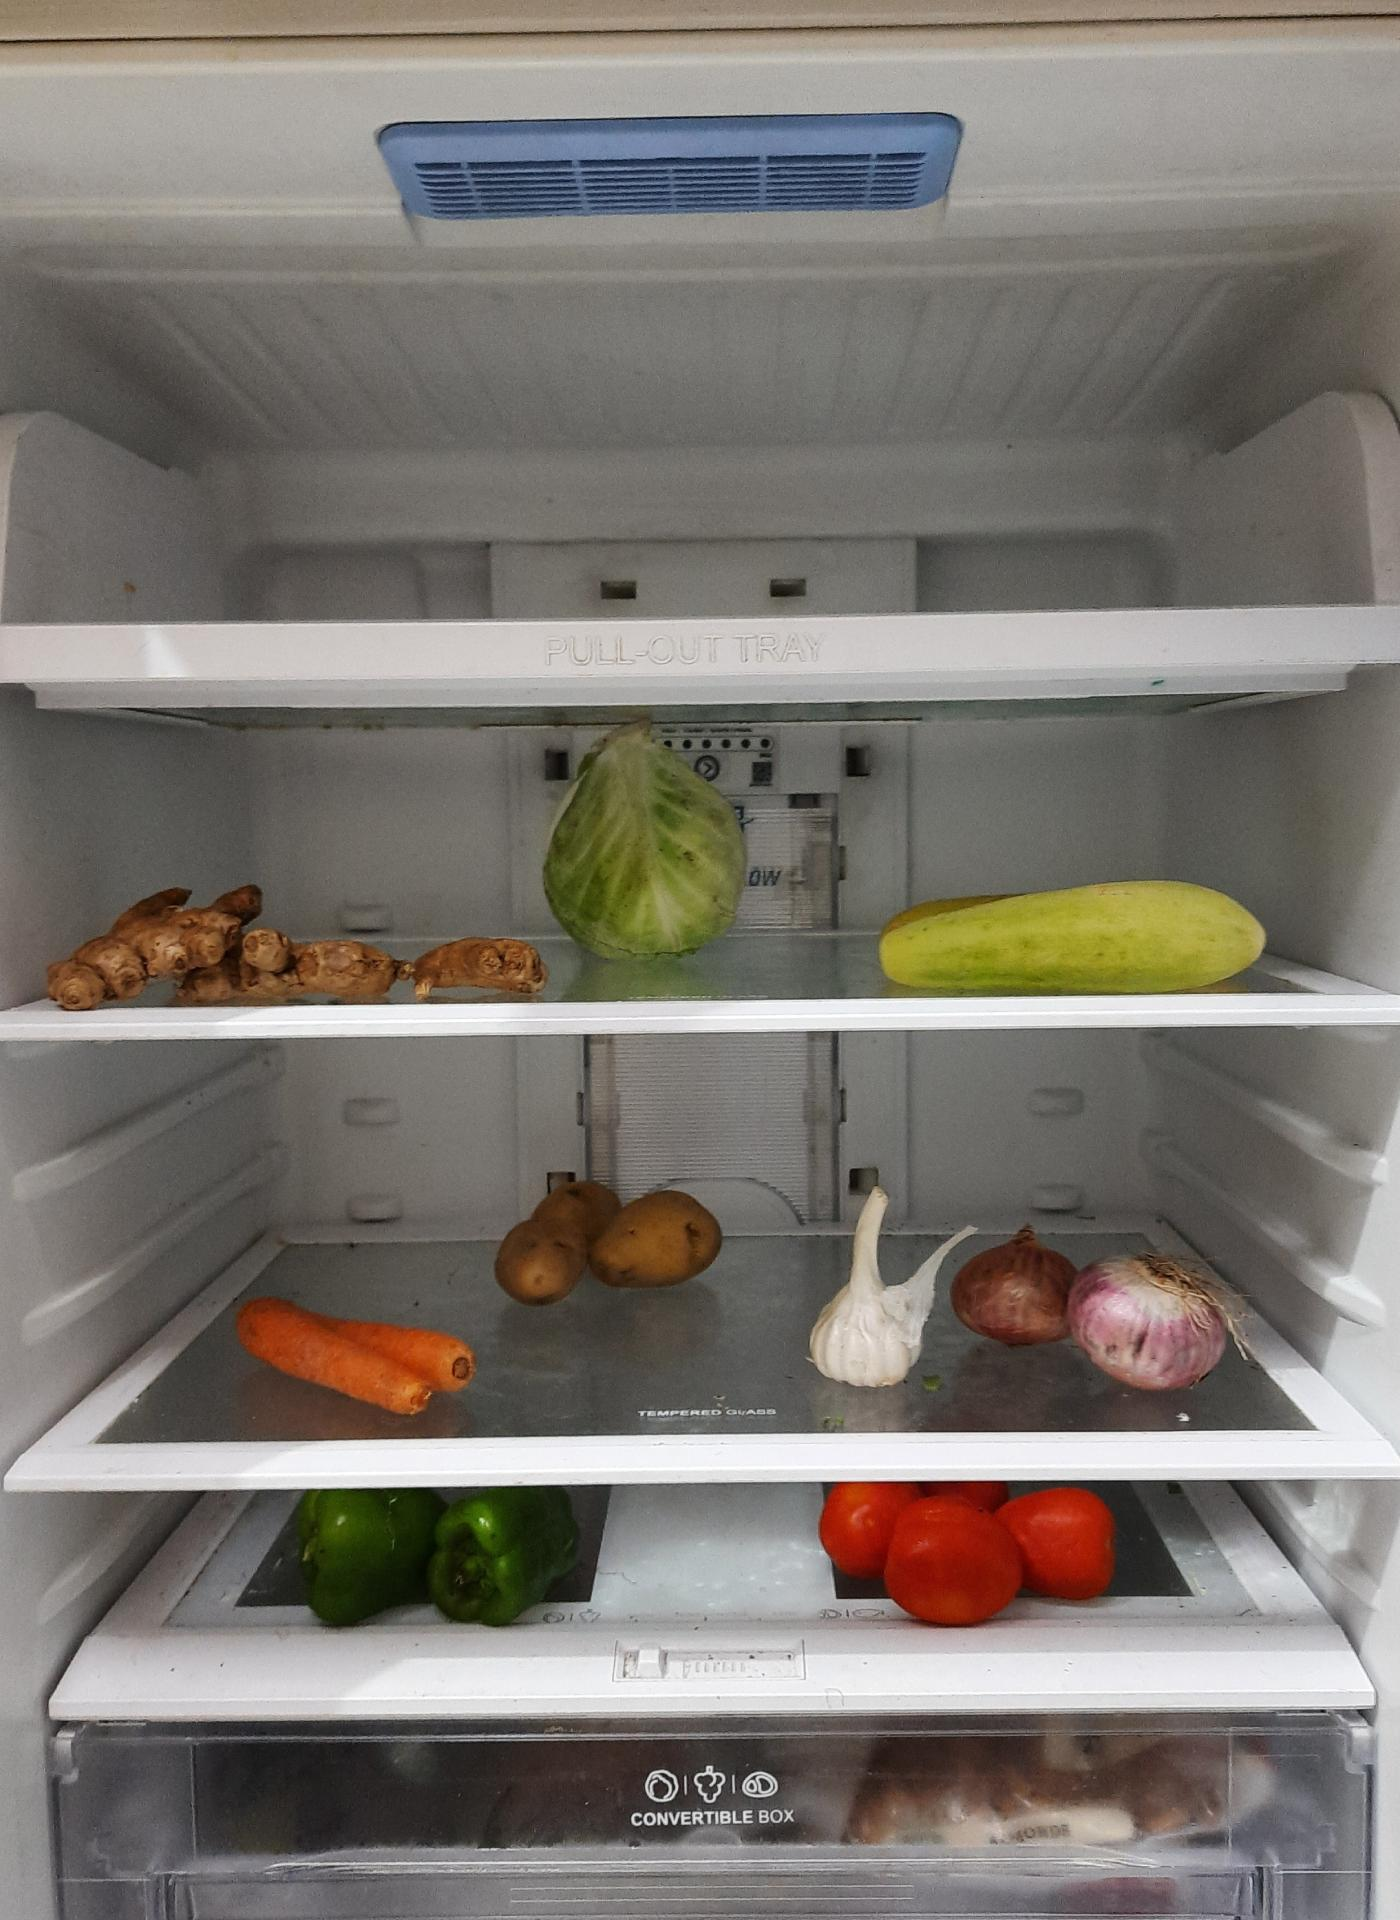cabbage: (547, 727, 747, 966)
carrots: (231, 1295, 477, 1419)
cucumber: (875, 882, 1272, 993)
garlic: (813, 1190, 975, 1388)
ginger: (52, 885, 549, 1009)
onion: (954, 1225, 1235, 1394)
potato: (491, 1178, 725, 1310)
